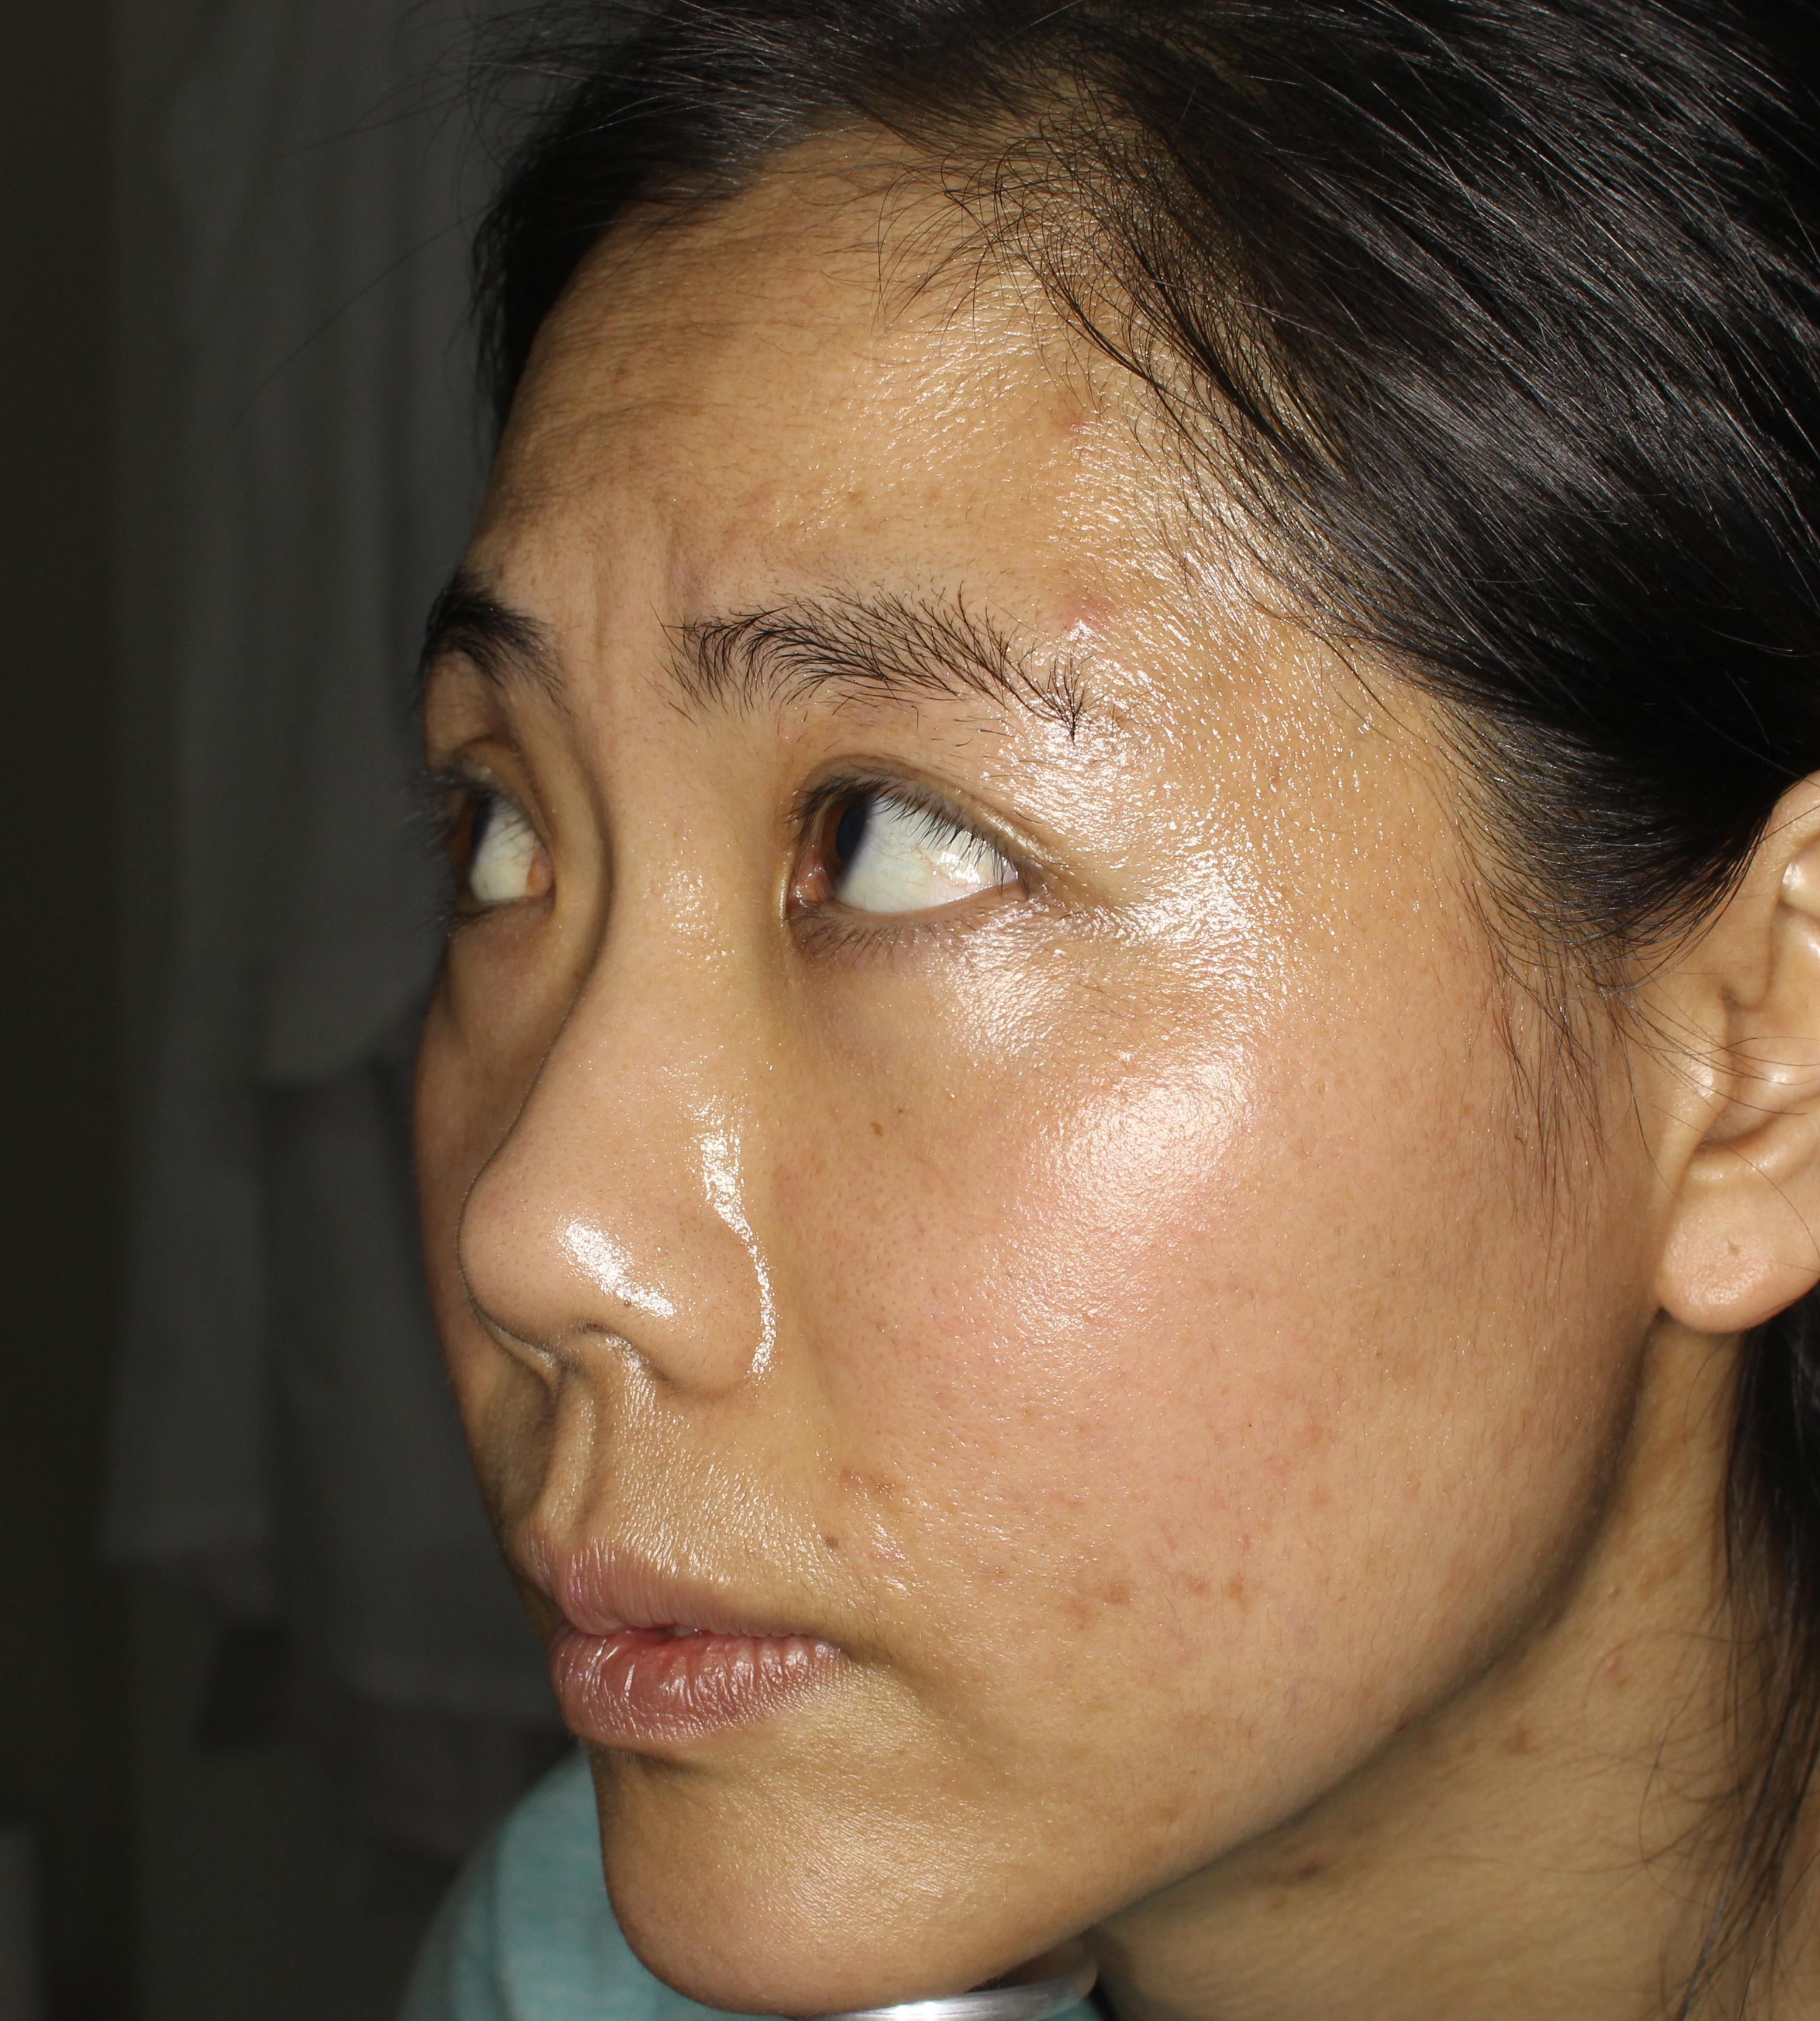fore: (1042, 1531, 1158, 1635), (812, 1424, 915, 1508), (1036, 567, 1109, 680), (1054, 393, 1131, 486)
